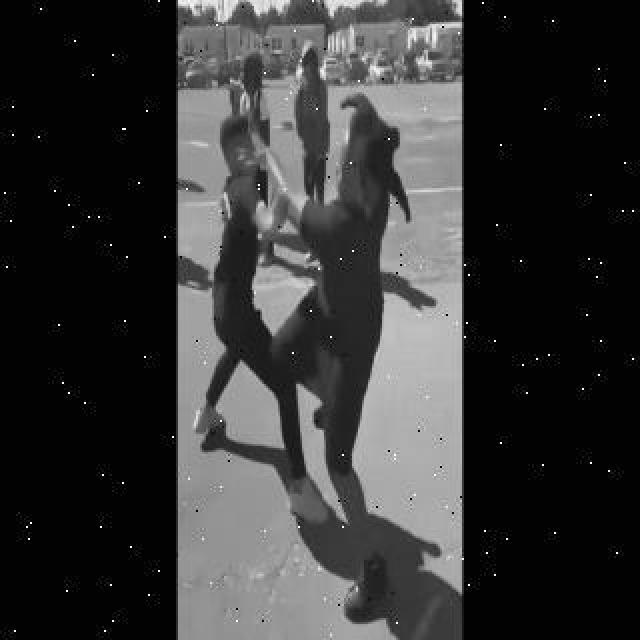fight: (195, 92, 405, 508)
